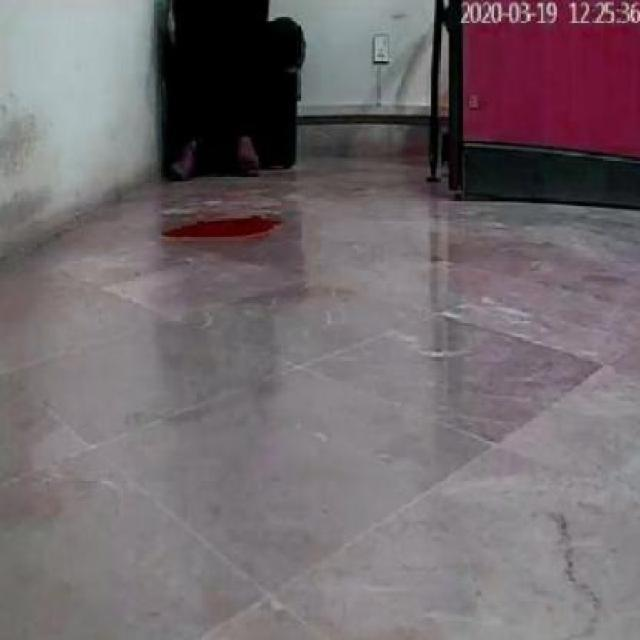spillage: (161, 216, 281, 245)
